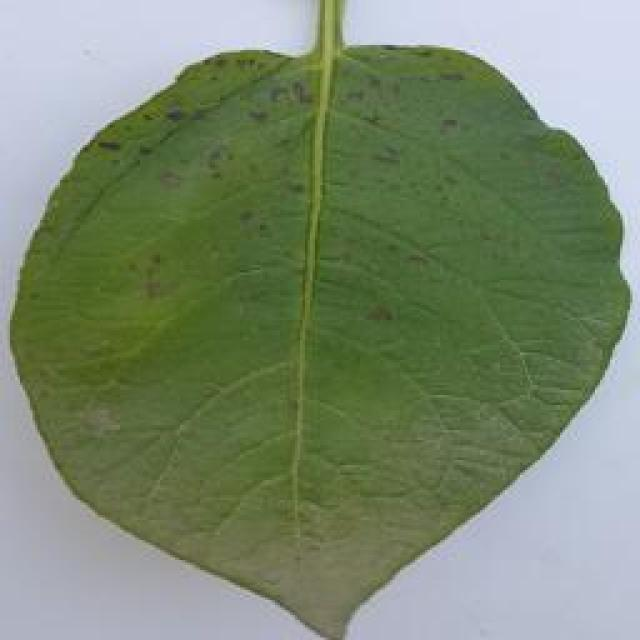Potato_Early_Blight: (10, 18, 640, 634)
